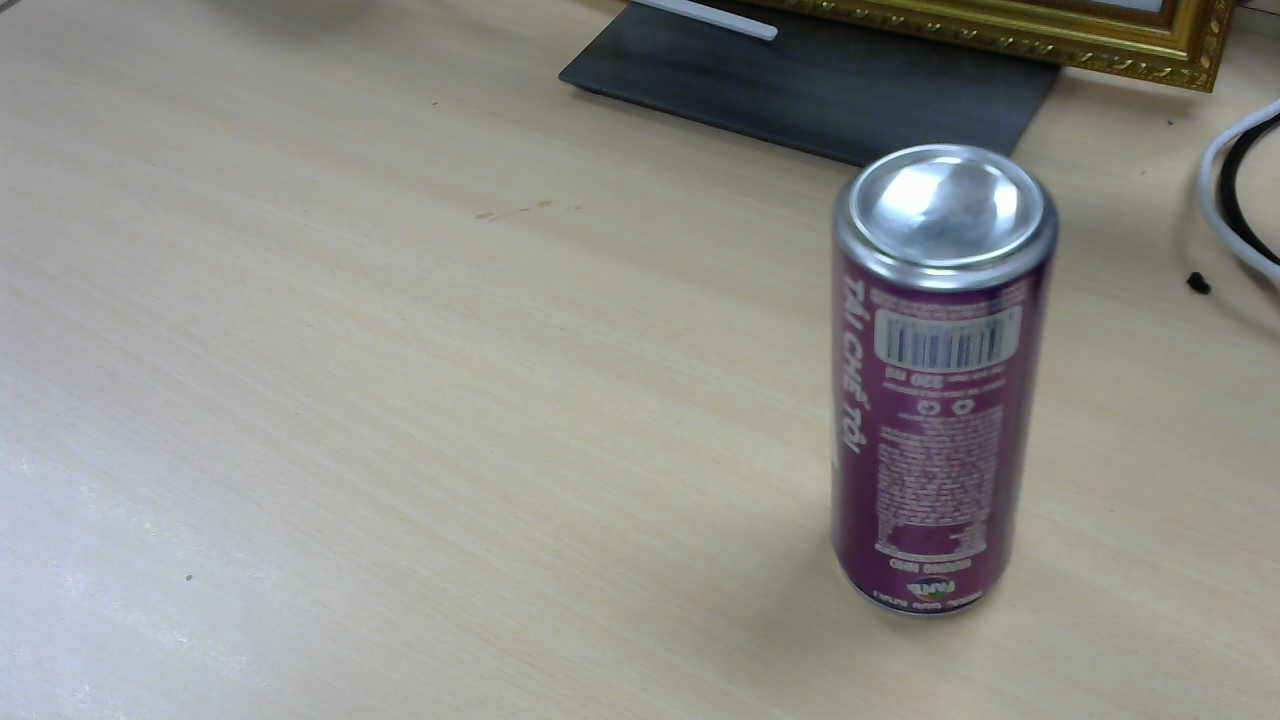Fanta: (828, 145, 1072, 624)
